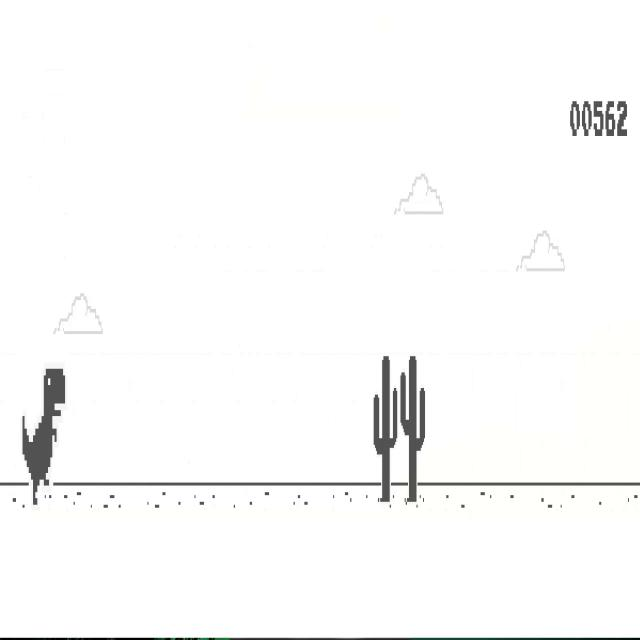cacto: (399, 354, 426, 505), (373, 355, 398, 503)
dino: (21, 368, 66, 507)
